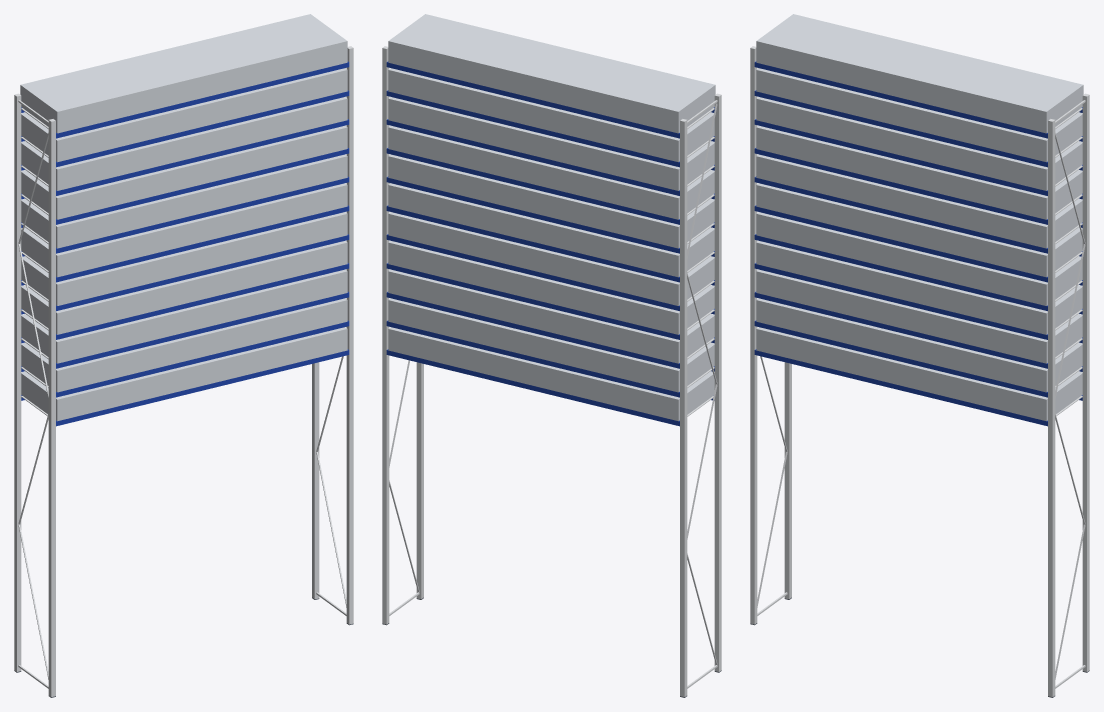
The model's file is SM_MPR_CADRack_F17P1_W192_Passage_LOD2.fbx.
3 views of the same model, side by side, from view 1: azimuth 30°, elevation 25°; view 2: azimuth 150°, elevation 25°; view 3: azimuth 330°, elevation 25° (orthographic).
Parts seen in each view (by area): view 1: SM_MPR_CADRack_F17P1_W192_Passage_LOD2; view 2: SM_MPR_CADRack_F17P1_W192_Passage_LOD2; view 3: SM_MPR_CADRack_F17P1_W192_Passage_LOD2.
Part boxes in pixels (<box>): SM_MPR_CADRack_F17P1_W192_Passage_LOD2: <box>14,14,353,697</box>; SM_MPR_CADRack_F17P1_W192_Passage_LOD2: <box>382,14,721,697</box>; SM_MPR_CADRack_F17P1_W192_Passage_LOD2: <box>750,14,1089,697</box>.
Bounding box in the file's own units: 503 × 107 × 929.
